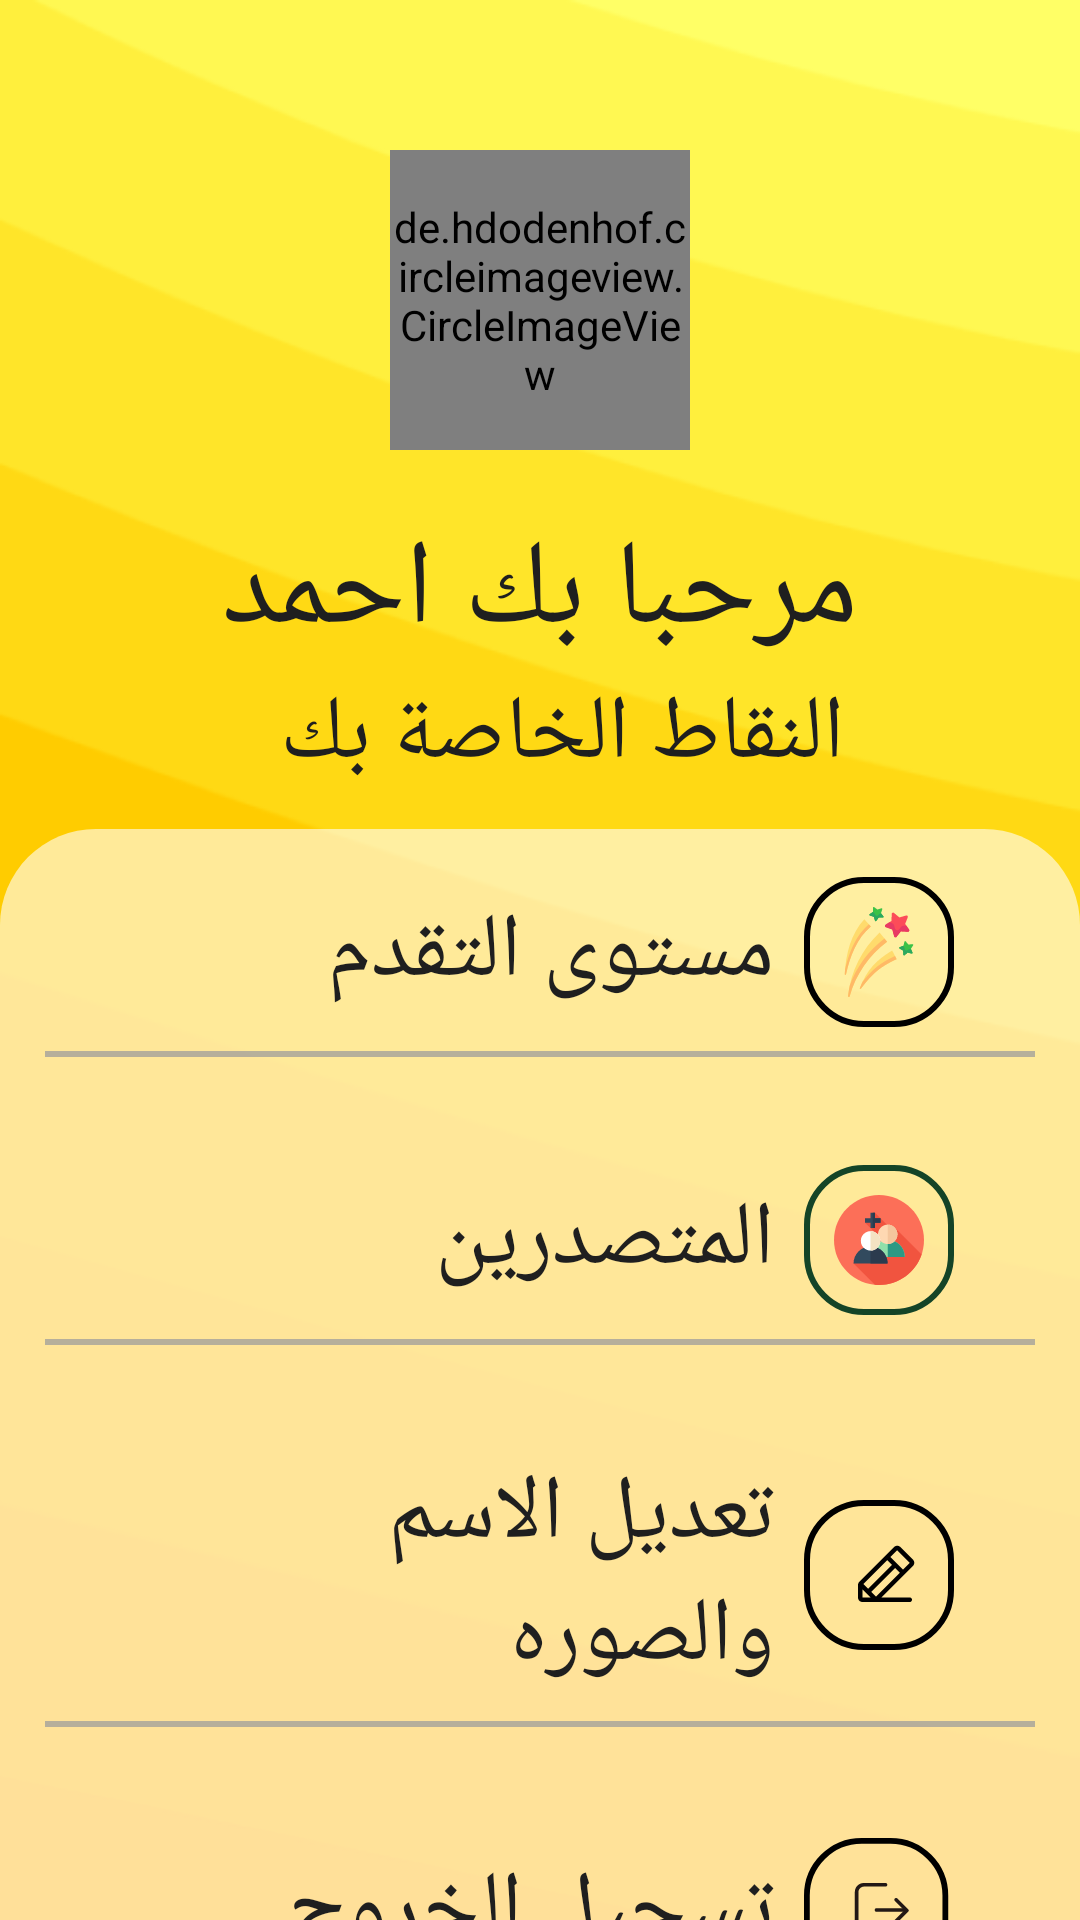

Icons on this 1080×1920 Android screen, each with its box as {"left": x1, "top": y1, "right": x2, "bottom": y2}:
edit: {"left": 804, "top": 1500, "right": 954, "bottom": 1650}
friends: {"left": 804, "top": 1165, "right": 954, "bottom": 1315}
